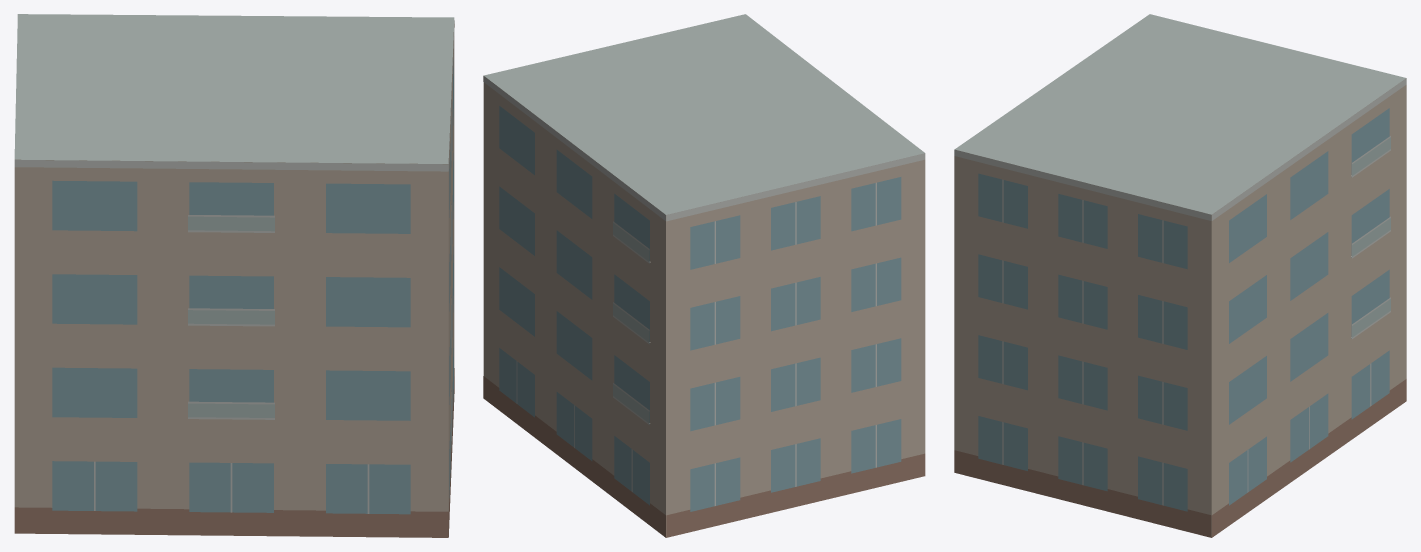
Rendered from survey-upis-32706621.glb.
The picture shows the model from 3 angles, left to right: view 1: azimuth 30°, elevation 25°; view 2: azimuth 150°, elevation 25°; view 3: azimuth 270°, elevation 25°; orthographic projection. The views are drawn at different scales.
Parts seen in each view (by area): view 1: survey-upis-32706621.tmp; view 2: survey-upis-32706621.tmp; view 3: survey-upis-32706621.tmp.
Part boxes in pixels (x1,y1,x2,y2): survey-upis-32706621.tmp: (14,14,454,537); survey-upis-32706621.tmp: (483,14,925,537); survey-upis-32706621.tmp: (954,14,1406,537).
Bounding box in the file's own units: 16.26 × 12.2 × 15.48.
